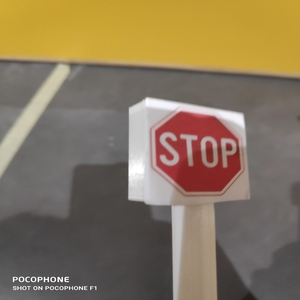stop-bord: (149, 104, 248, 199)
